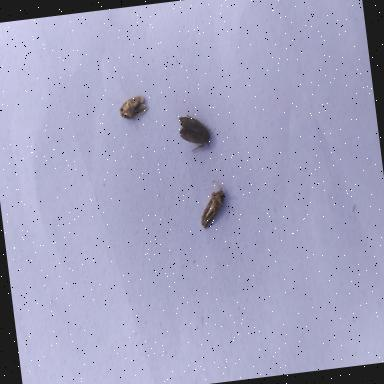pbw: (176, 110, 218, 154), (195, 179, 228, 229), (118, 94, 149, 128)
